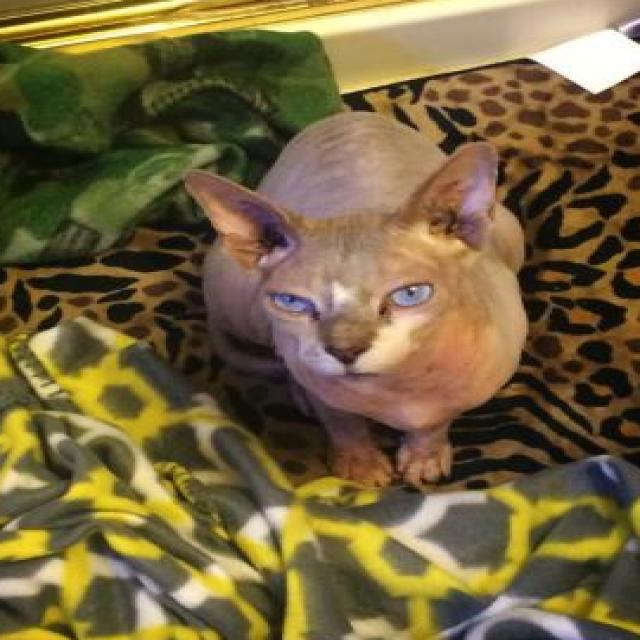Sphynx: (180, 106, 534, 498)
